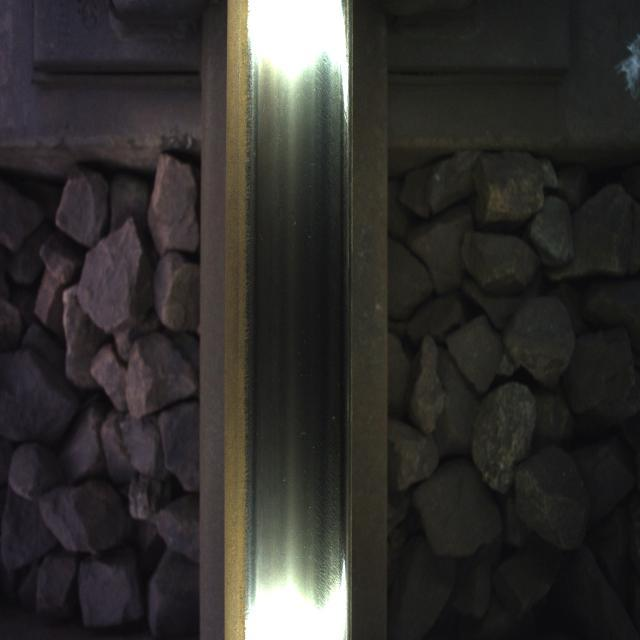break: (248, 2, 338, 634)
